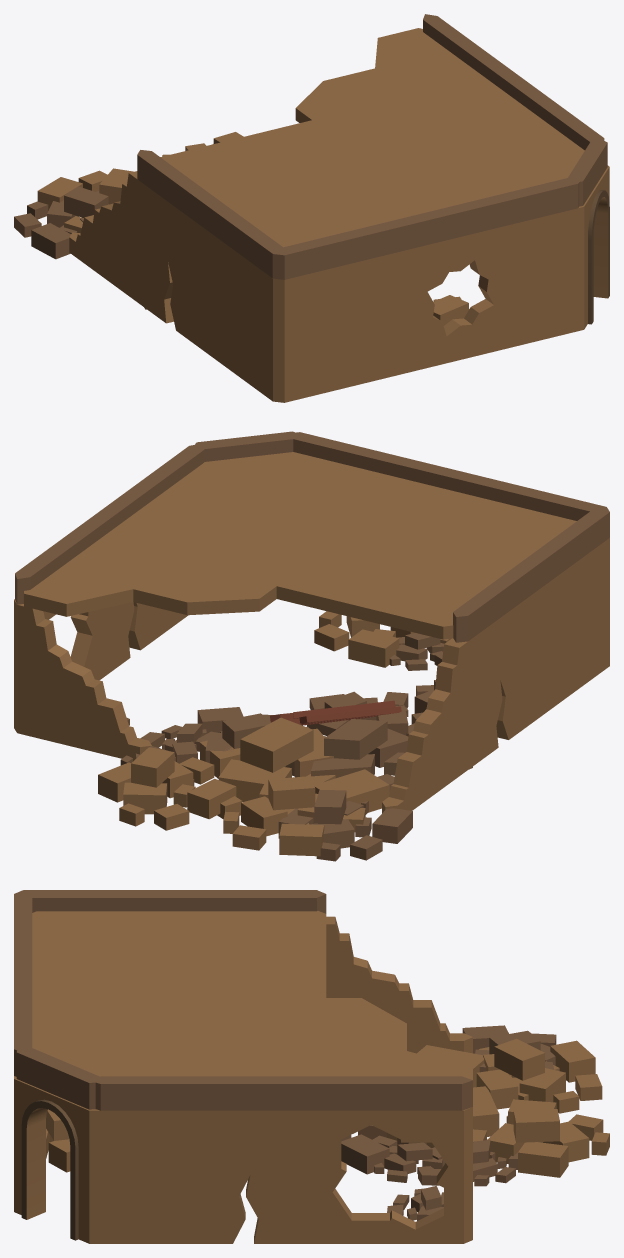
File: ZerstörtesHausFlach2LehmMat.fbx
The picture shows the model from 3 angles, top to bottom: view 1: azimuth 30°, elevation 25°; view 2: azimuth 150°, elevation 25°; view 3: azimuth 270°, elevation 25°; orthographic projection. The views are drawn at different scales.
Parts seen in each view (by area): view 1: roof_flat (×5), wall_corner, wall (×8), roof_flatEdge (×3), wall_destroyedHole, wall_cornerEdgeArch, wall_destroyedCrack, debris_stone (×3), wall_destroyedSlope; view 2: roof_flat (×5), debris_stone (×11), wall (×8), roof_flatEdge (×3), wall_destroyedSlope (×2), wall_destroyedCrack (×2), wall_corner, wall_destroyedHoleLarge, debris_wood; view 3: roof_flat (×5), wall (×8), debris_stone (×9), wall_destroyedCrack, wall_cornerEdgeArch, roof_flatEdge (×3), wall_destroyedHoleLarge, wall_destroyedSlope.
Part boxes in pixels (x1,y1,x2,y2): roof_flat (×5): [160, 79, 558, 247]; wall_corner: [205, 229, 401, 402]; wall (×8): [137, 14, 607, 279]; roof_flatEdge (×3): [295, 28, 584, 196]; wall_destroyedHole: [402, 222, 519, 373]; wall_cornerEdgeArch: [519, 165, 609, 345]; wall_destroyedCrack: [137, 179, 204, 351]; debris_stone (×3): [14, 168, 469, 325]; wall_destroyedSlope: [69, 171, 137, 301]; roof_flat (×5): [99, 466, 576, 639]; debris_stone (×11): [98, 611, 472, 861]; wall (×8): [15, 431, 609, 642]; roof_flatEdge (×3): [23, 452, 356, 616]; wall_destroyedSlope (×2): [17, 604, 468, 813]; wall_destroyedCrack (×2): [100, 590, 538, 769]; wall_corner: [539, 538, 609, 717]; wall_destroyedHoleLarge: [14, 599, 100, 732]; debris_wood: [270, 700, 401, 725]; roof_flat (×5): [32, 911, 326, 1076]; wall (×8): [14, 890, 472, 1110]; debris_stone (×9): [46, 1025, 609, 1220]; wall_destroyedCrack: [170, 1110, 316, 1243]; wall_cornerEdgeArch: [14, 1076, 169, 1243]; roof_flatEdge (×3): [32, 998, 472, 1079]; wall_destroyedHoleLarge: [317, 1107, 472, 1243]; wall_destroyedSlope: [326, 916, 472, 1053].
Size of the model in its own units: 32.87 by 12.3 by 40.57.
